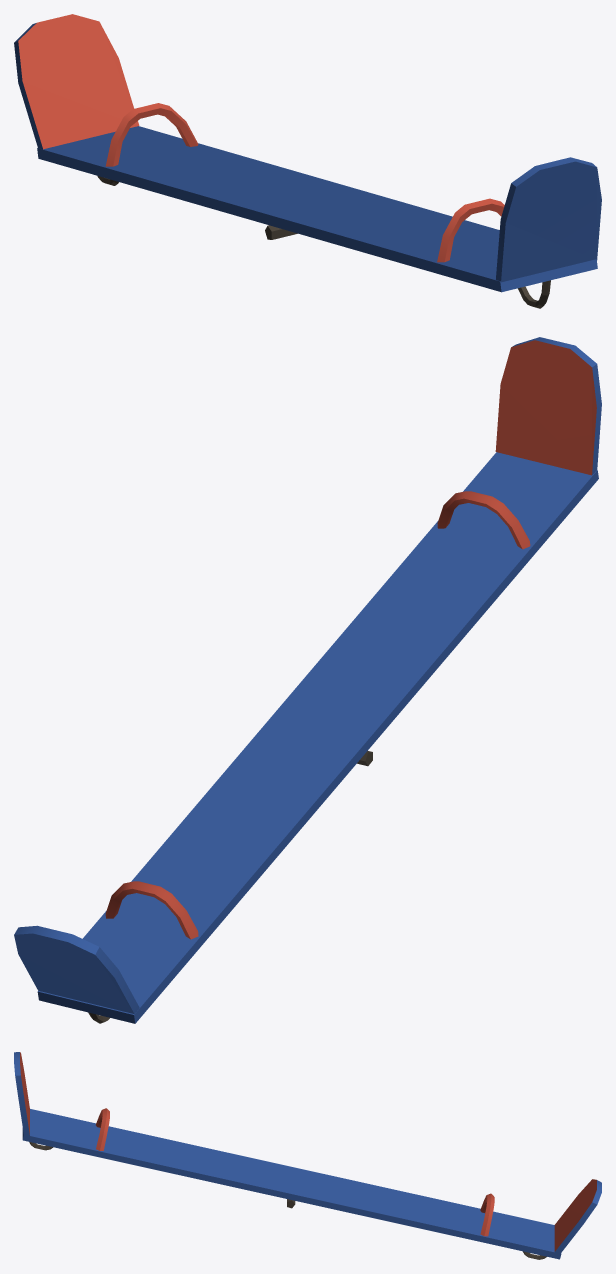
File: SeeSaw_head.obj
The picture shows the model from 3 angles, top to bottom: view 1: azimuth 30°, elevation 25°; view 2: azimuth 150°, elevation 25°; view 3: azimuth 270°, elevation 25°; orthographic projection. The views are drawn at different scales.
Visible parts, largest first — view 1: seeSaw_Parent; view 2: seeSaw_Parent; view 3: seeSaw_Parent.
Part boxes in pixels (box(x1,y1,x2,y2)): seeSaw_Parent: box(14, 14, 601, 308); seeSaw_Parent: box(14, 337, 601, 1023); seeSaw_Parent: box(14, 1052, 601, 1259).
Bounding box in the file's own units: 0.318 × 1.07 × 2.8.
